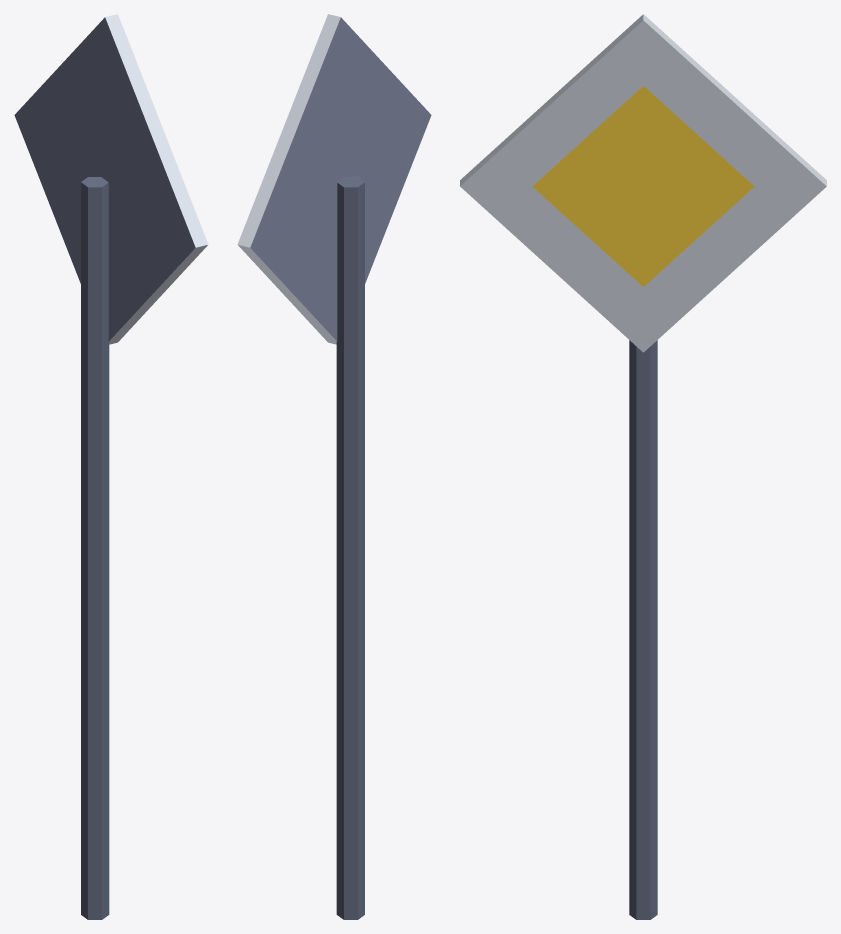
The model's file is PrioritySign01.fbx.
The picture shows the model from 3 angles, left to right: view 1: azimuth 30°, elevation 25°; view 2: azimuth 150°, elevation 25°; view 3: azimuth 270°, elevation 25°; orthographic projection.
Parts seen in each view (by area): view 1: Cube, Cylinder; view 2: Cube, Cylinder; view 3: Cube, Cylinder.
Boxes of the visible parts, x1=… form: Cube: x1=14, y1=14, x2=208, y2=344; Cylinder: x1=81, y1=177, x2=109, y2=919; Cube: x1=237, y1=14, x2=431, y2=344; Cylinder: x1=336, y1=177, x2=364, y2=919; Cube: x1=460, y1=14, x2=826, y2=352; Cylinder: x1=629, y1=340, x2=657, y2=919.
Bounding box in the file's own units: 16.71 × 428 × 157.
